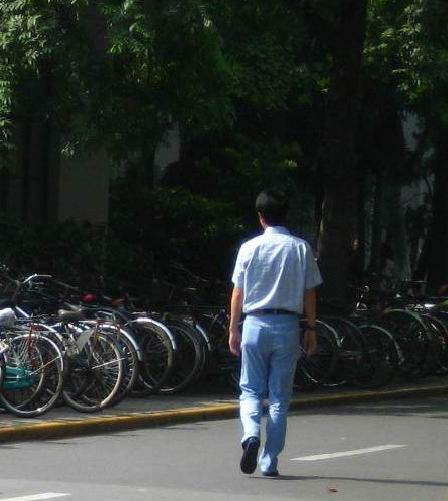pedestrian: (230, 190, 323, 476)
